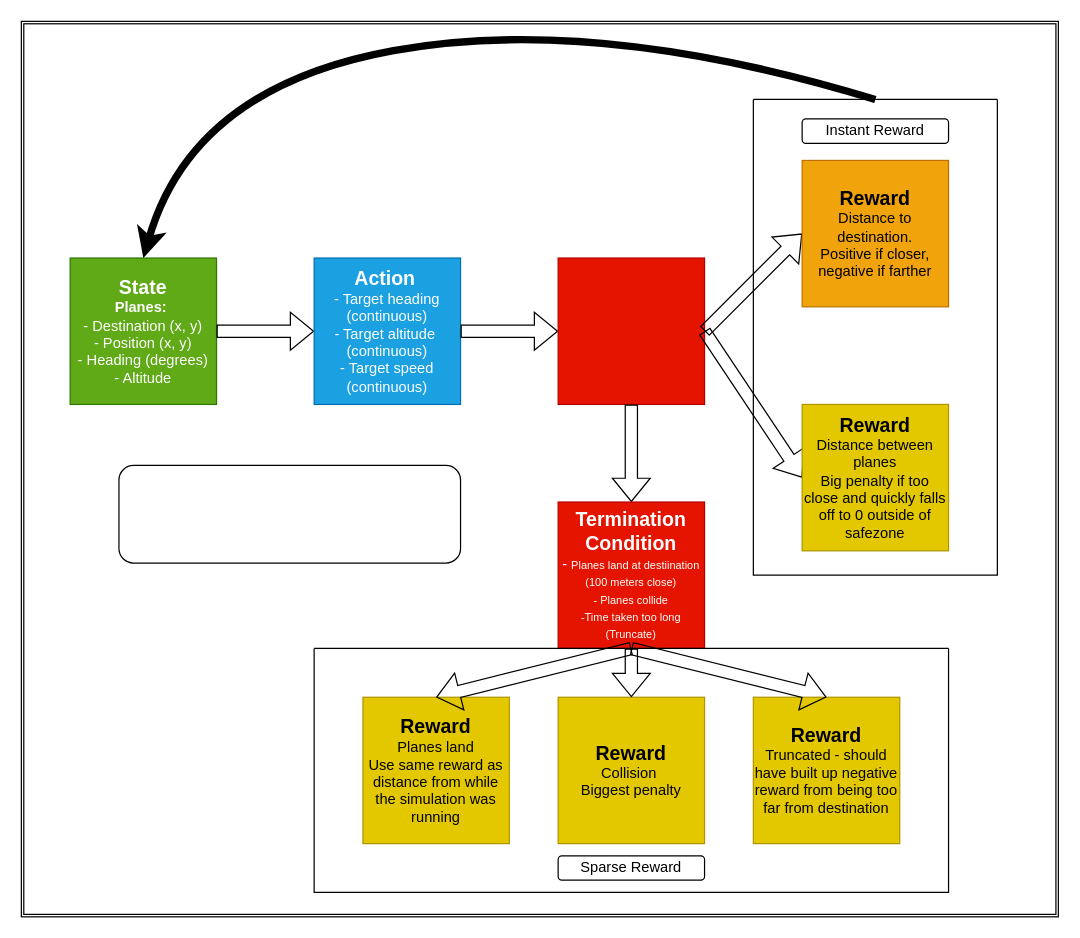
Image size: 1080x938. Some labels were removed from this diagram. The shapes that lost their labels are listed below. From the top down, each one's centre as x and y in pixels, then its label:
[631,330]: ATC Agent gives instructions every minute
[289,513]: RL Environment
